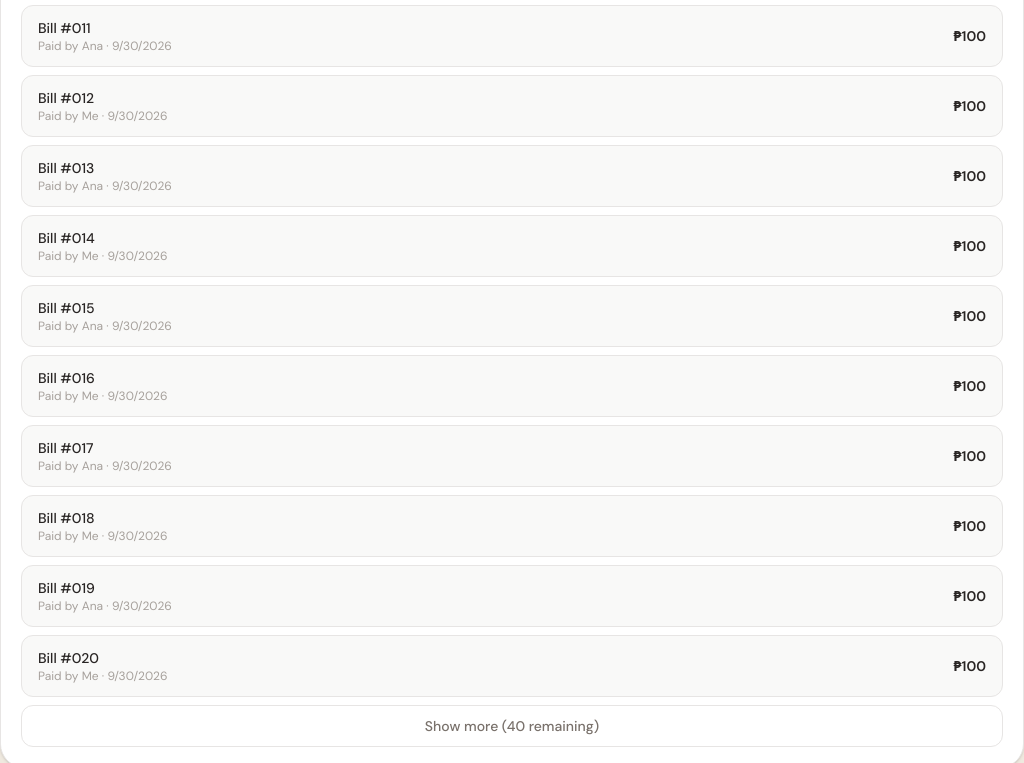
Test case: GroupDetailPage bills, server-paged › C25: a filter chosen after Show more drops the appended rows and starts that payer at 20
This screenshot has width=1024, height=763.
(page scrolled)
Click the button "Show more (40 remaining)". click: [512, 726]
box: [21,705,1003,747]
(page scrolled)
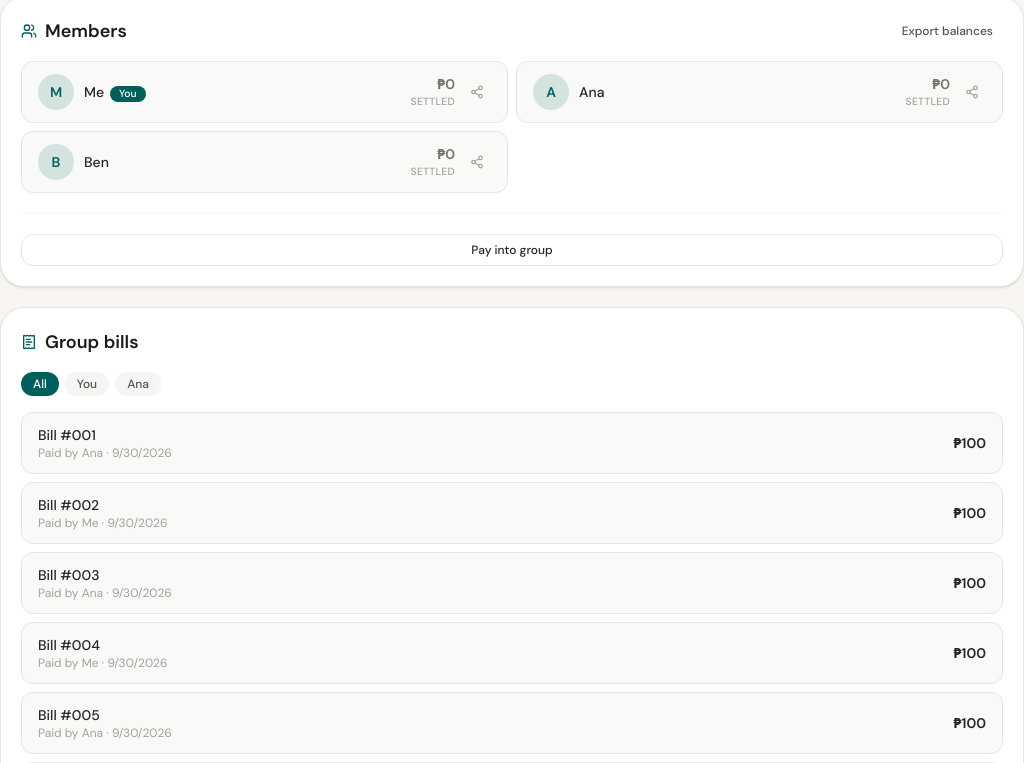
Click the button "You". click: [87, 384]
box: [65,372,109,396]
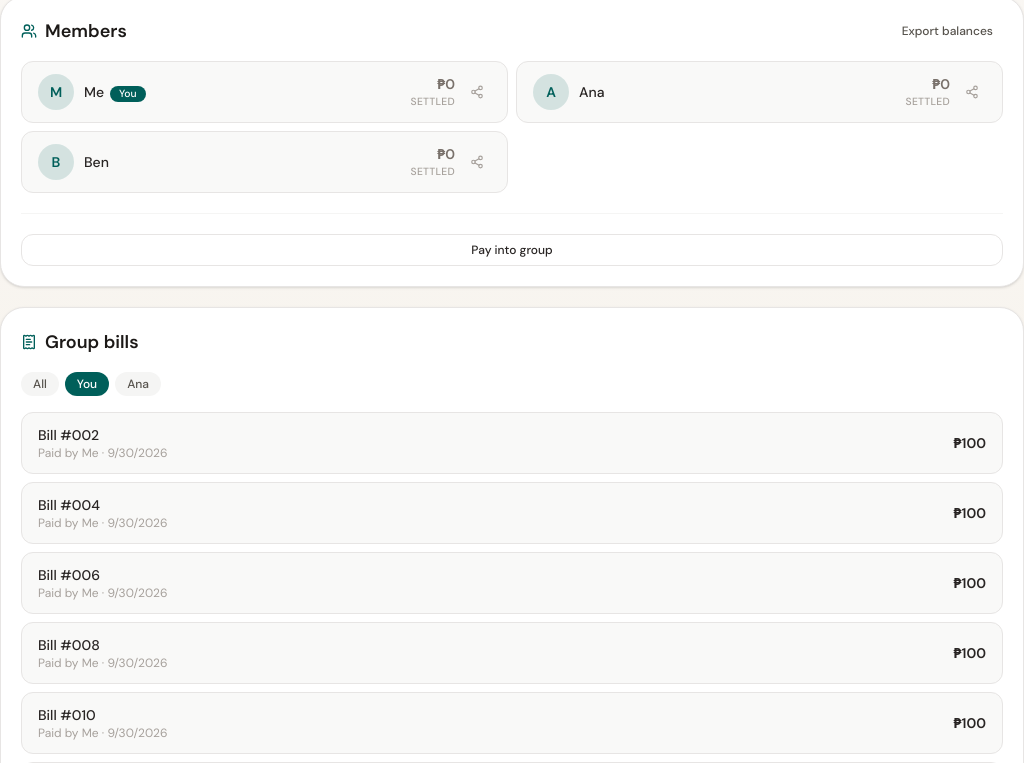
Check: the text "Bill #001" is gone
